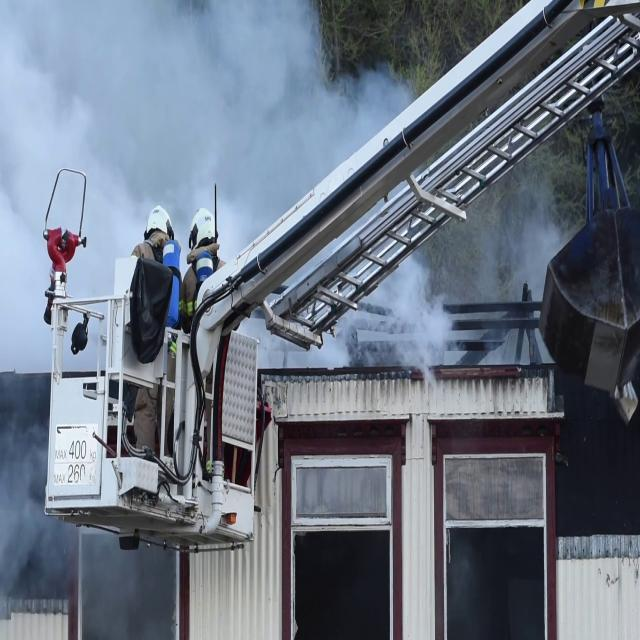Smoke: (1, 0, 369, 258), (454, 163, 574, 306), (367, 246, 472, 398), (0, 464, 74, 598)
